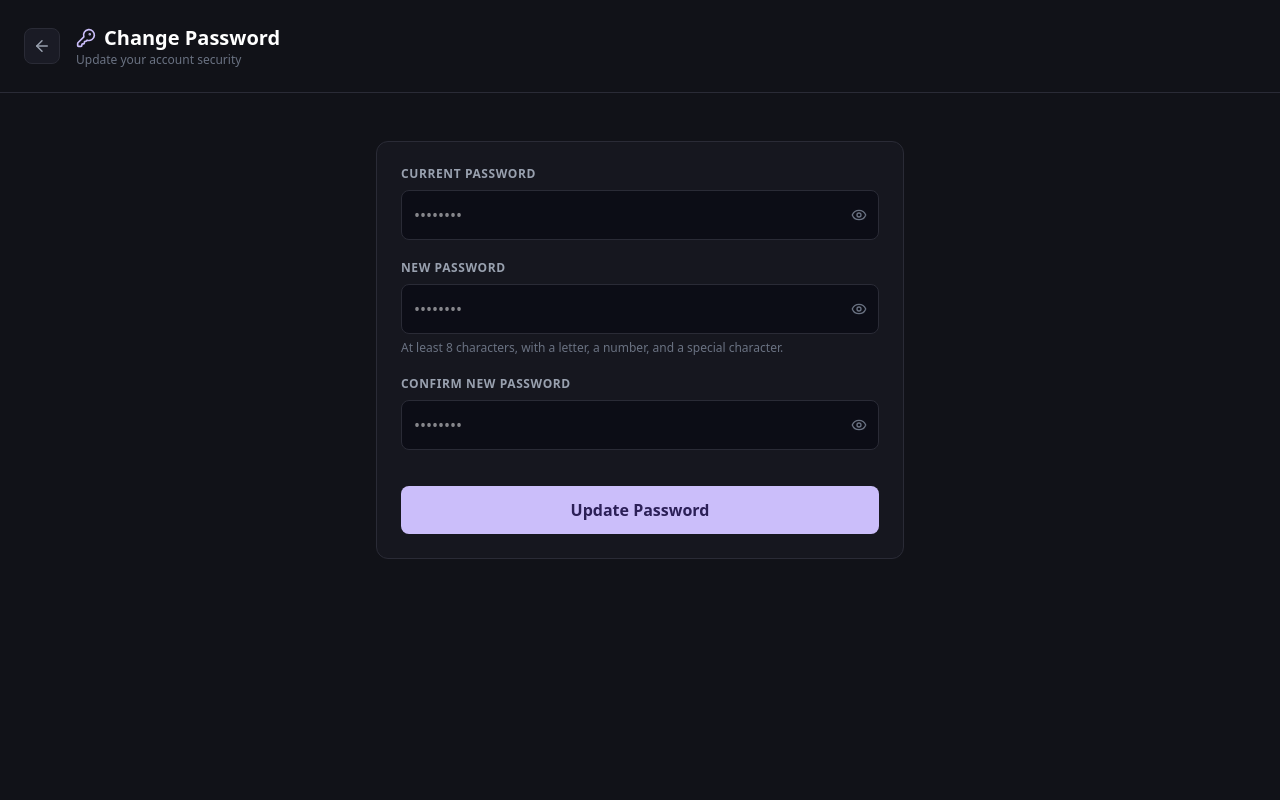
Test: AdminPasswordUpdatePage › rejects mismatched new passwords
In the password field with placeholder "••••••••" below "Current Password": (640, 215) [401, 190, 879, 240], type "Old1234!"
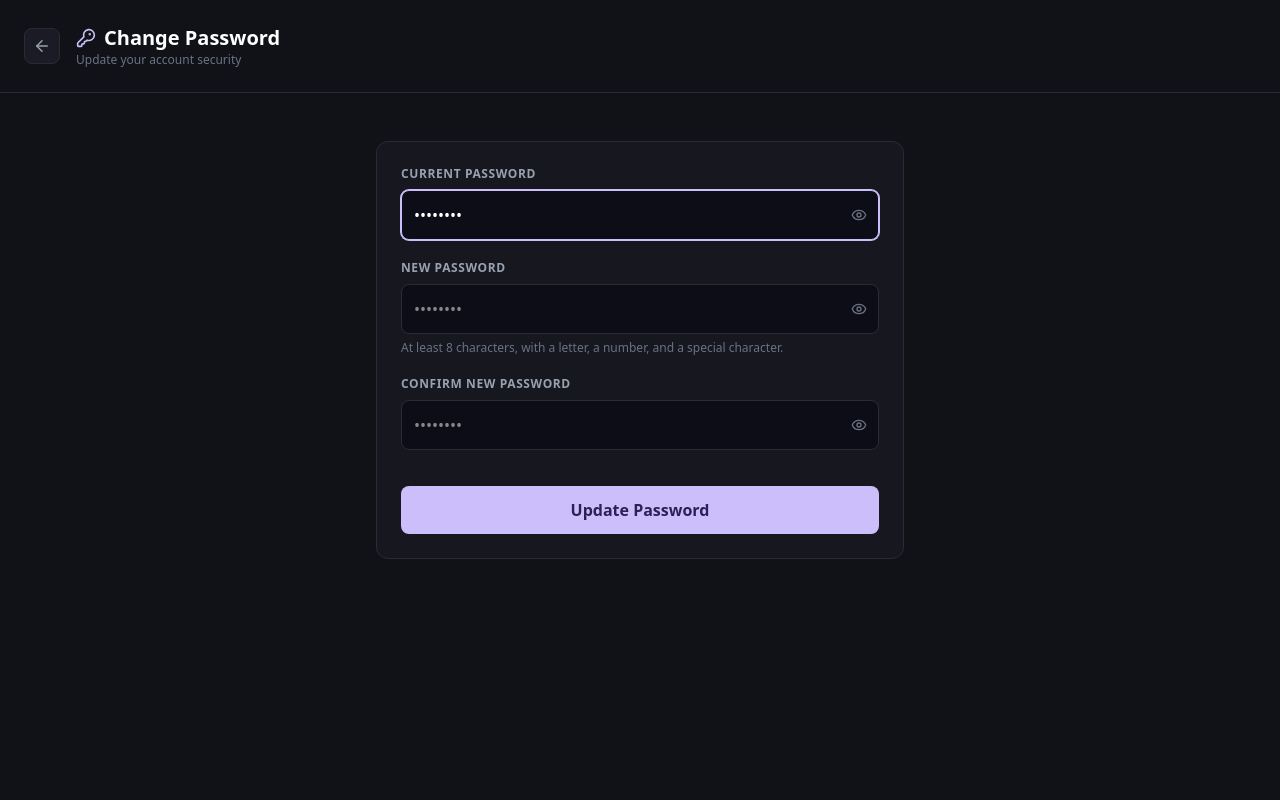
In the 1st password field with placeholder "••••••••": (640, 309) [401, 284, 879, 334], type "NewPass1!"
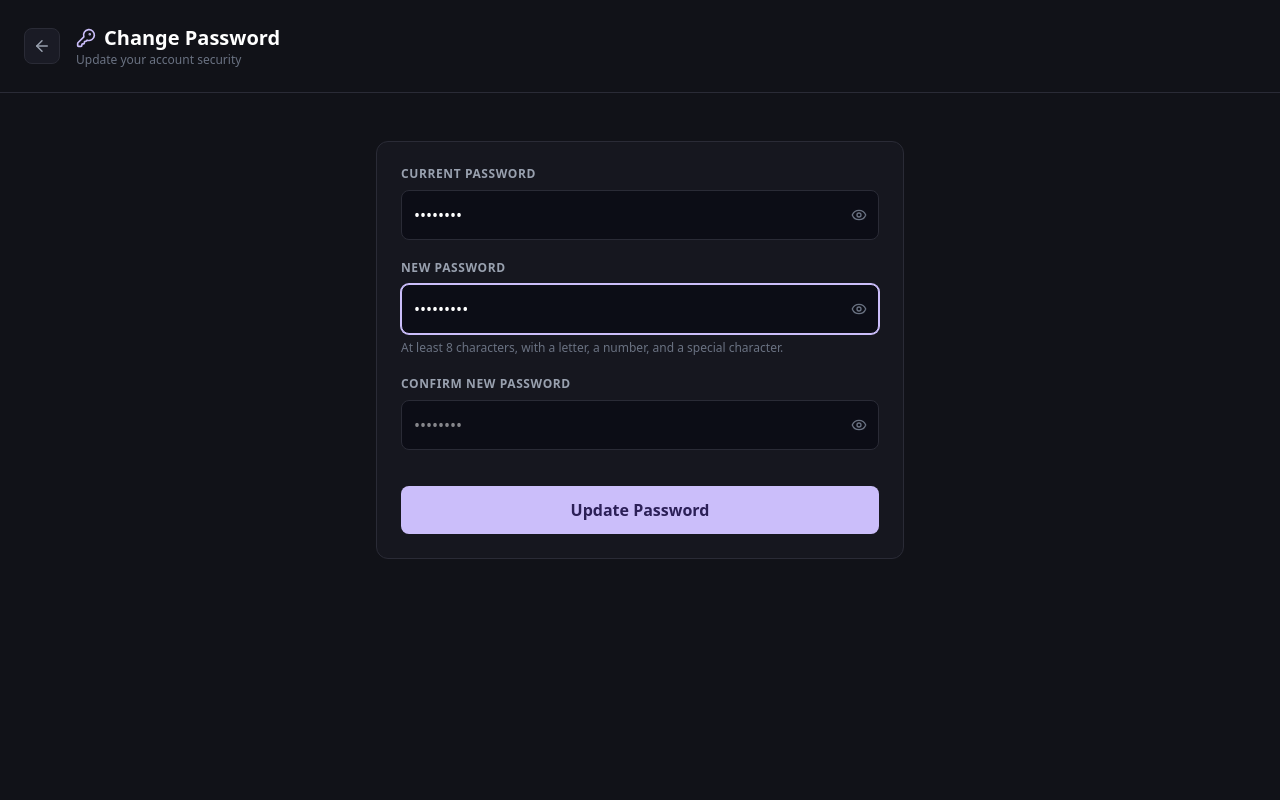
In the password field with placeholder "••••••••": (640, 425) [401, 400, 879, 450], type "Different1!"
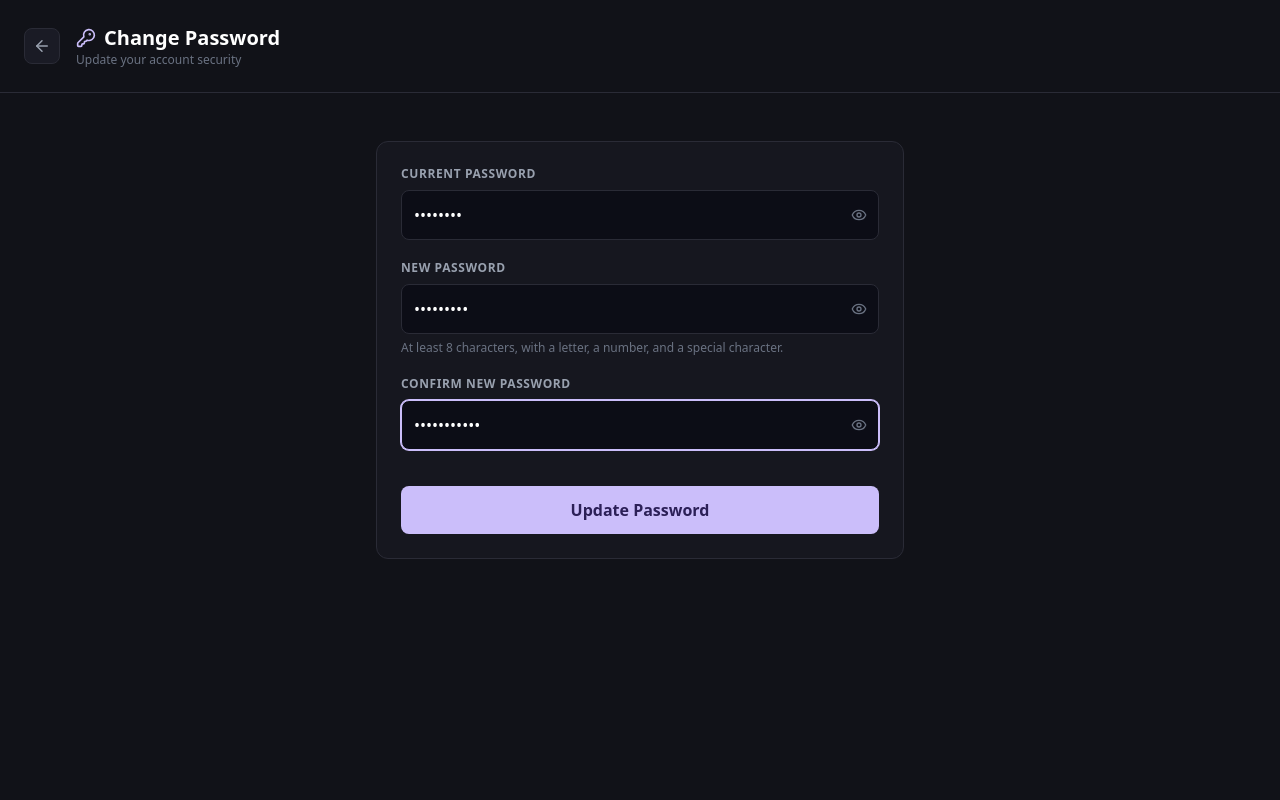
Click the button "Update Password": (640, 510) [401, 486, 879, 534]
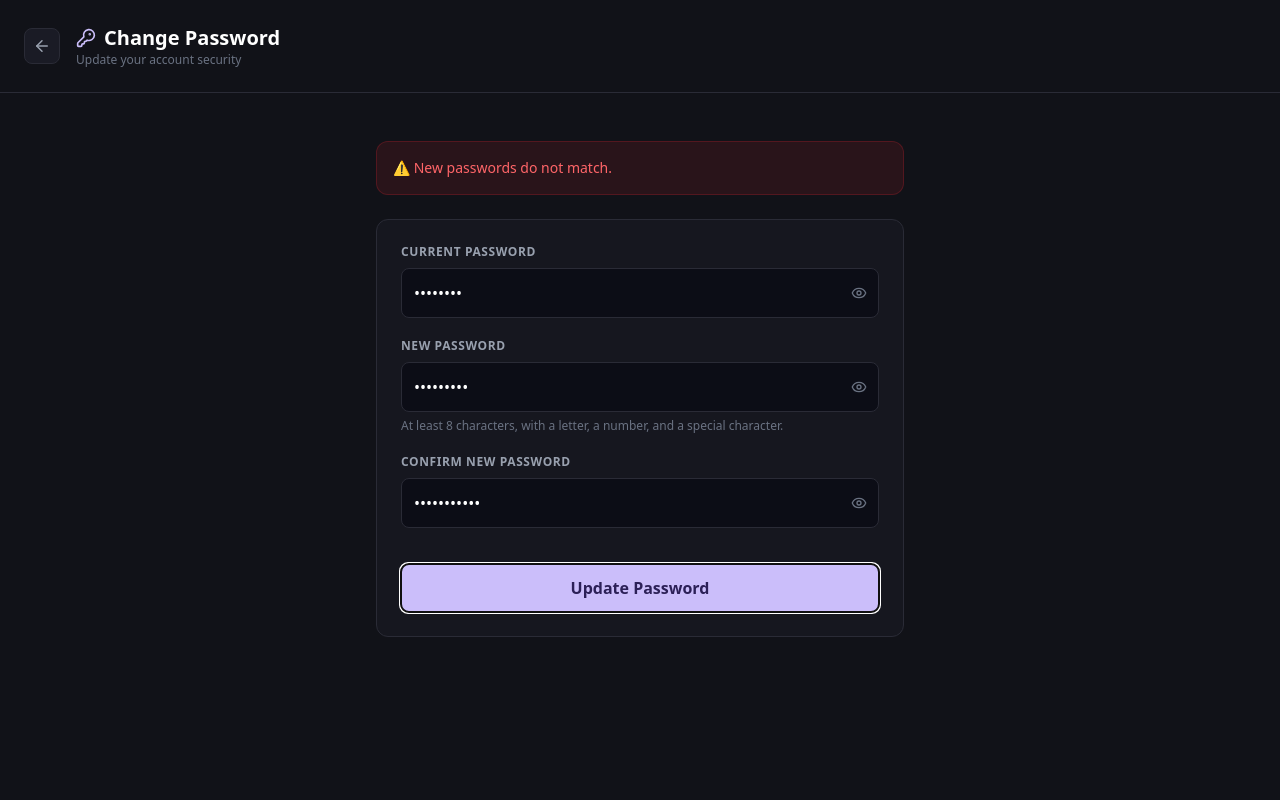
Expected: the text "⚠ New passwords do not match." is shown, [376, 141, 904, 195]
